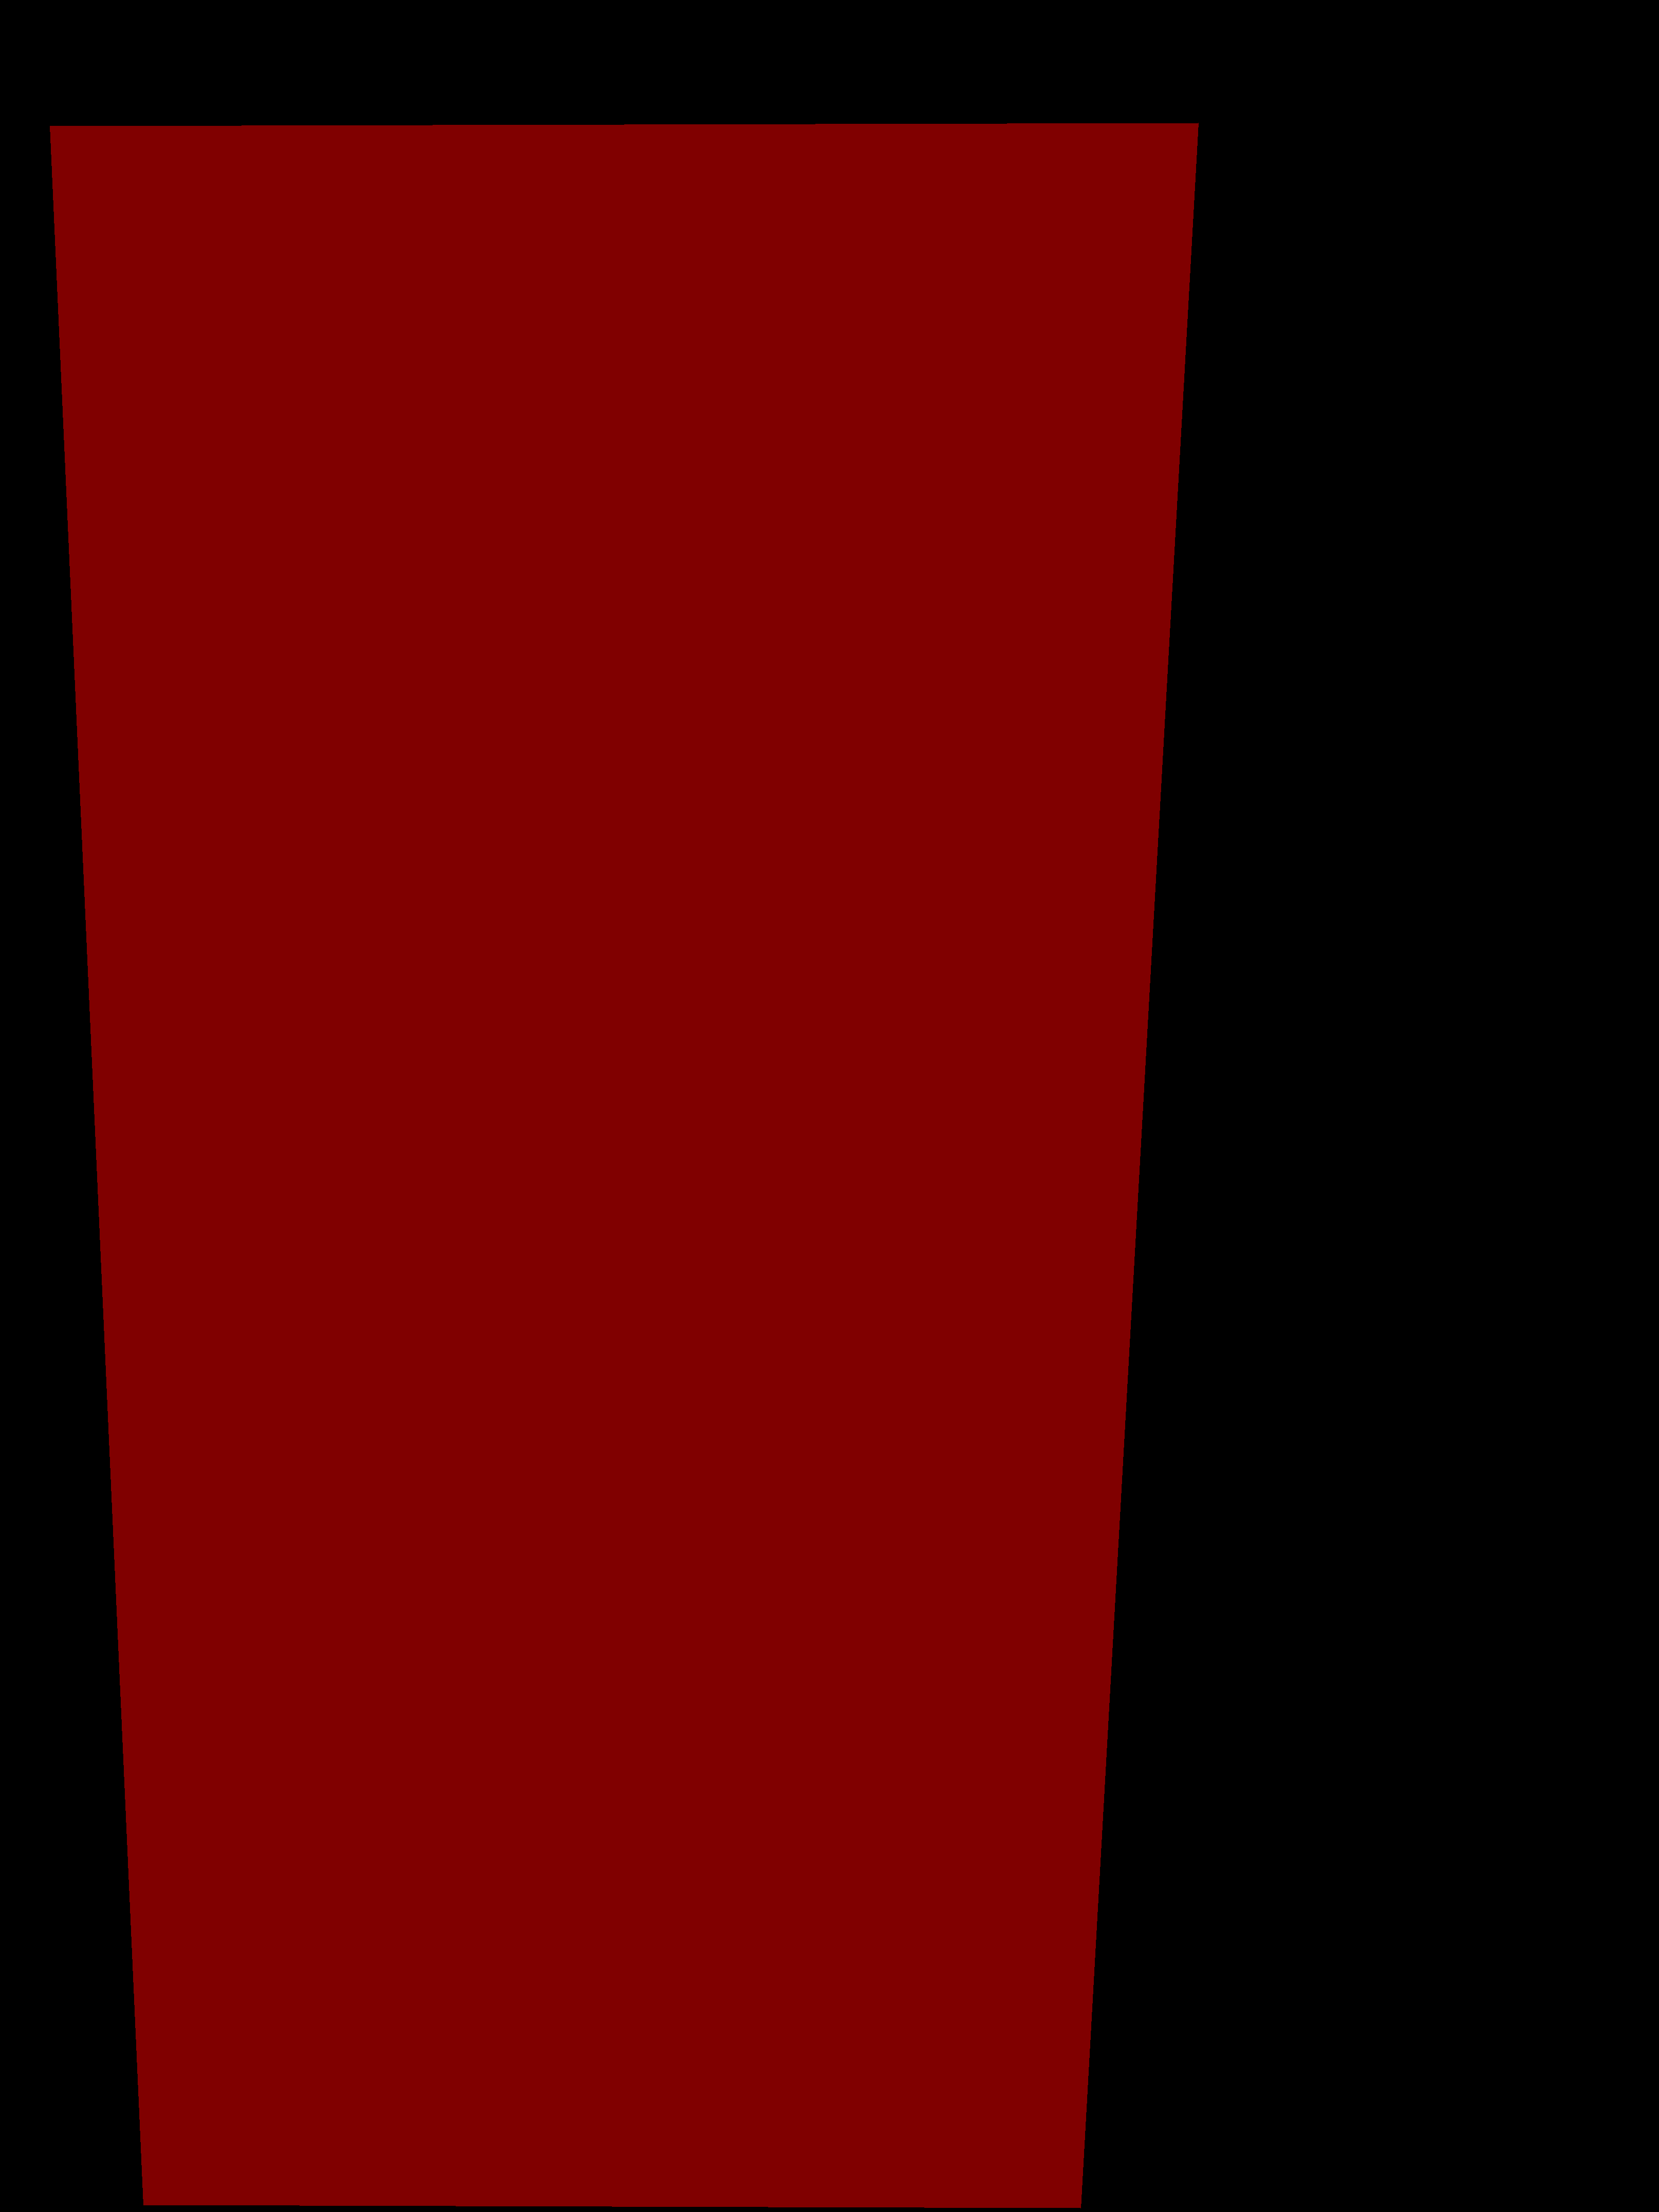door: (51, 122, 1199, 2209)
